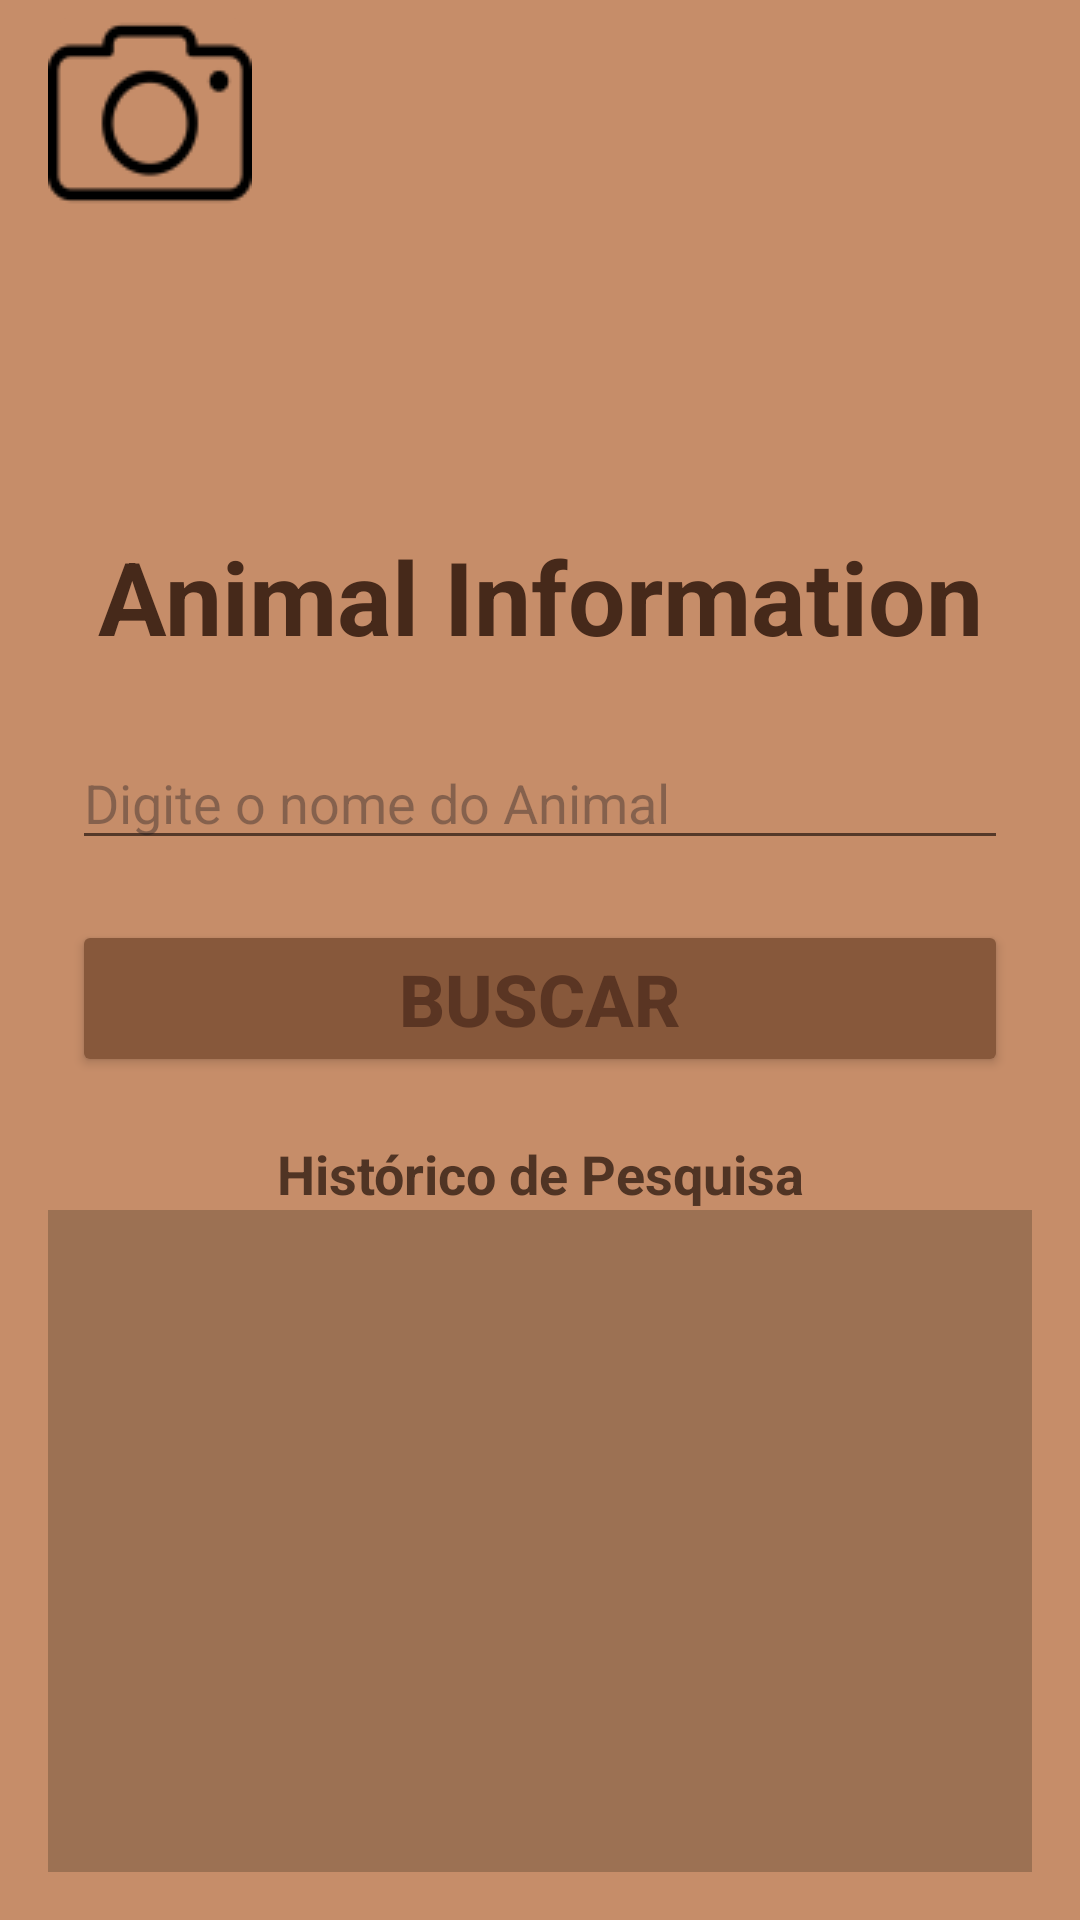

Point at icon controls on the screen. Image size 1080w x 1920h, points as (x,y).
camera: (150,113)
